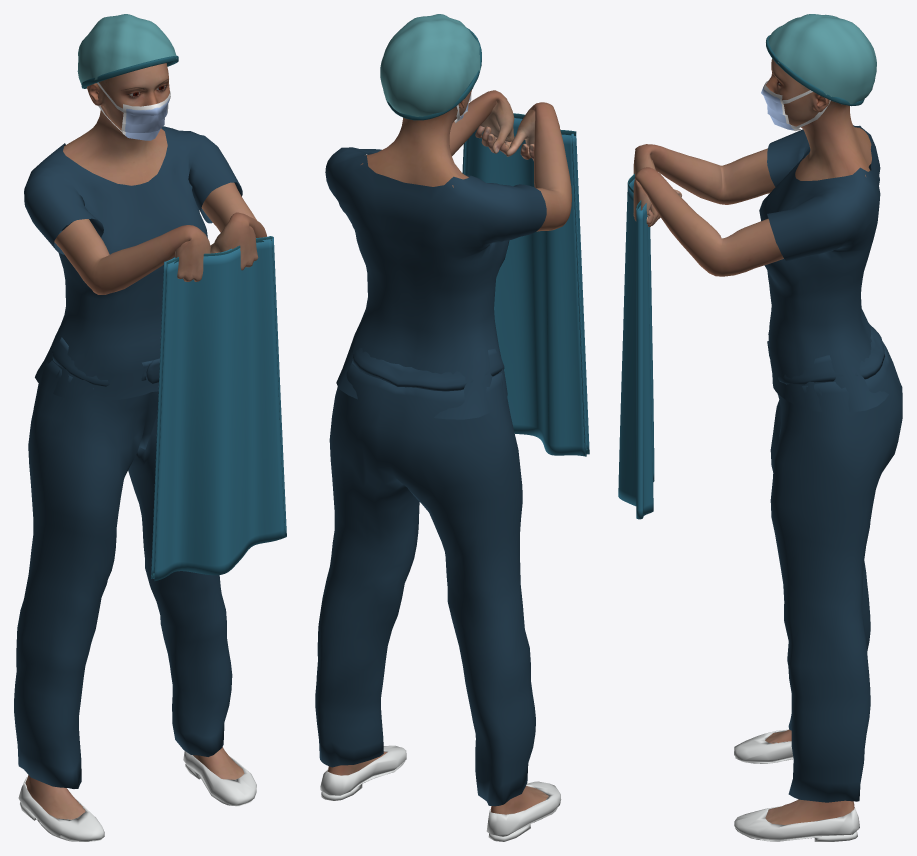
Rendered from paso-2.glb.
3 views of the same model, side by side, from view 1: azimuth 30°, elevation 25°; view 2: azimuth 150°, elevation 25°; view 3: azimuth 270°, elevation 25° (orthographic).
Visible parts, largest first — view 1: Human.toigo_wool_pants-static, v2-gown-folded, Human.joepal_crude_t-shirt_female-static, Human-static, surgical-cap, Human.toigo_flats-static, Human.joepal_medical_mouth_protection-static, v2-folded-soft-return-0, v2-folded-soft-return--1, cap-elastic, v2-gown-book-inner-fold; view 2: Human.toigo_wool_pants-static, Human.joepal_crude_t-shirt_female-static, v2-gown-book-inner-fold, Human-static, surgical-cap, Human.toigo_flats-static, v2-folded-soft-return-0, cap-elastic; view 3: Human.toigo_wool_pants-static, Human.joepal_crude_t-shirt_female-static, Human-static, surgical-cap, v2-gown-folded, Human.toigo_flats-static, v2-gown-book-inner-fold, v2-folded-soft-return--1, Human.joepal_medical_mouth_protection-static, cap-elastic.
Part boxes in pixels (x1,y1,x2,y2): Human.toigo_wool_pants-static: (14, 337, 232, 788); v2-gown-folded: (154, 239, 284, 581); Human.joepal_crude_t-shirt_female-static: (24, 126, 242, 400); Human-static: (25, 63, 266, 819); surgical-cap: (77, 14, 176, 84); Human.toigo_flats-static: (18, 751, 256, 841); Human.joepal_medical_mouth_protection-static: (97, 82, 170, 140); v2-folded-soft-return-0: (151, 261, 166, 578); v2-folded-soft-return--1: (269, 236, 286, 537); cap-elastic: (81, 55, 178, 88); v2-gown-book-inner-fold: (151, 236, 268, 578); Human.toigo_wool_pants-static: (315, 348, 535, 806); Human.joepal_crude_t-shirt_female-static: (325, 147, 546, 419); v2-gown-book-inner-fold: (464, 118, 586, 456); Human-static: (327, 89, 571, 814); surgical-cap: (380, 14, 480, 116); Human.toigo_flats-static: (320, 745, 561, 841); v2-folded-soft-return-0: (571, 133, 589, 456); cap-elastic: (386, 28, 481, 120); Human.toigo_wool_pants-static: (767, 323, 902, 802); Human.joepal_crude_t-shirt_female-static: (759, 125, 888, 411); Human-static: (633, 58, 871, 824); surgical-cap: (768, 14, 876, 104); v2-gown-folded: (618, 178, 640, 506); Human.toigo_flats-static: (734, 729, 859, 841); v2-gown-book-inner-fold: (633, 184, 654, 516); v2-folded-soft-return--1: (636, 209, 643, 519); Human.joepal_medical_mouth_protection-static: (761, 80, 830, 130); cap-elastic: (766, 35, 864, 106).
Size of the model in its own units: 0.4667 by 1.7 by 0.5645.
16 materials, 9 textured.
